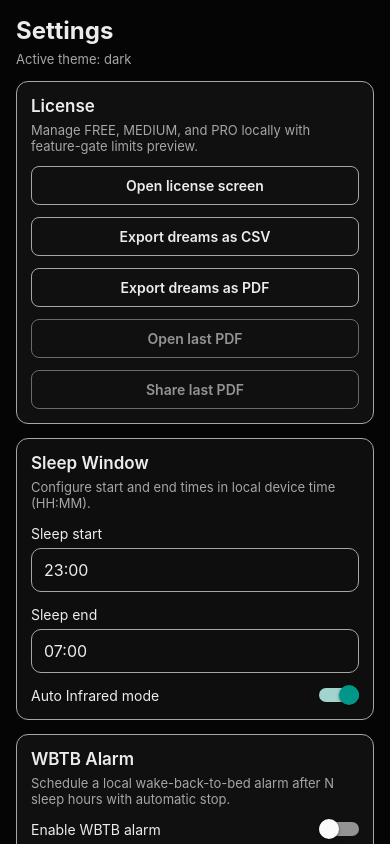
Test: SettingsScreenView › shows a clear gate message when FREE blocks PDF export
This screenshot has width=390, height=844.
Click the button with test id "settings-export-dreams-pdf-button": (195, 288) [31, 268, 359, 307]
(page scrolled)
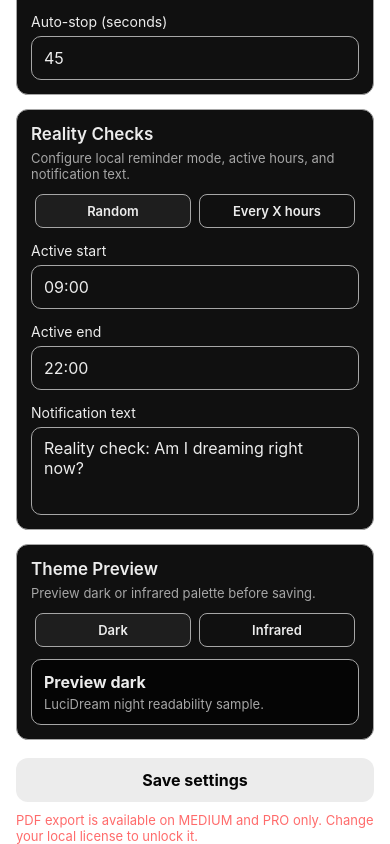
Expected: the text with test id "settings-error-message" shows "PDF export is available on MEDIUM and PRO only. Change your local license to unlock it.", [16, 812, 377, 843]
